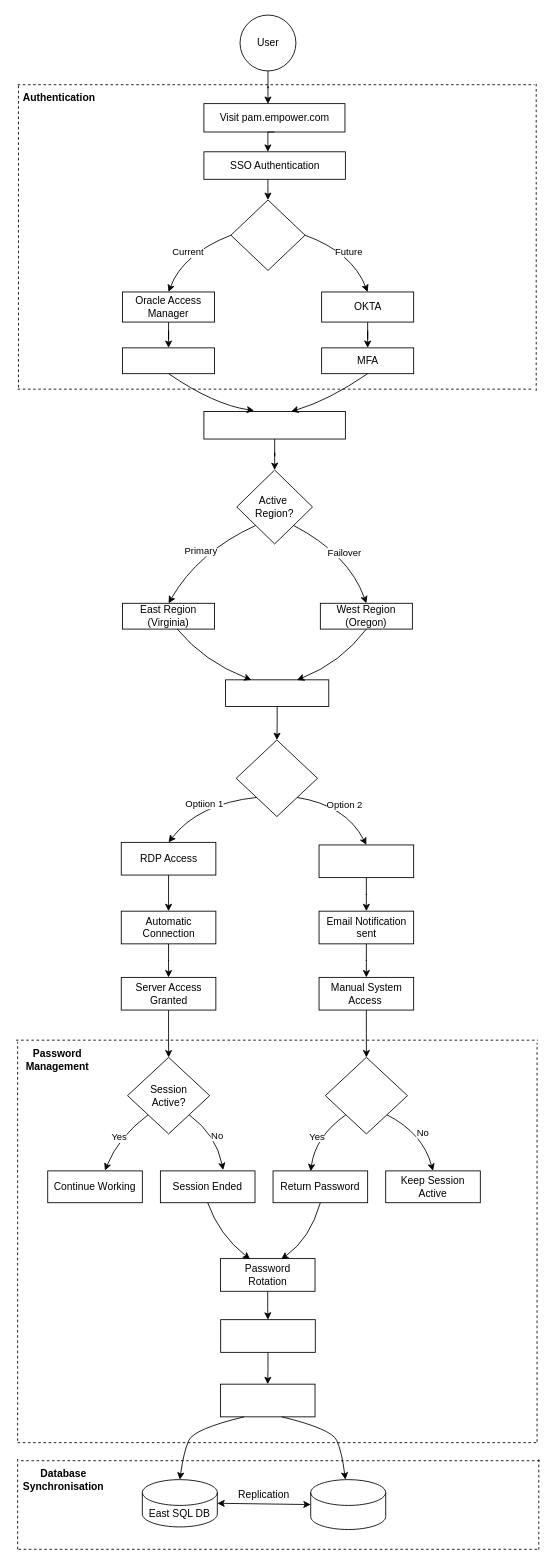
Some shapes in this 557 by 1566 pixel diagram are drawn without their labels. Here are the shapes that lost their labels. From the top down, the centre of each, then its label:
At point (267, 234): "Login Method".
At point (168, 360): "PIN + Token".
At point (274, 425): "AWS Route 53 DNS".
At point (277, 692): "BeyondTrust Dashboard".
At point (276, 778): "Choose Access Type".
At point (366, 861): "Password Checkout".
At point (365, 1095): "Check In required?".
At point (267, 1335): "Generate New Password".
At point (267, 1400): "Store in Database".
At point (348, 1504): "West SQL DB".
